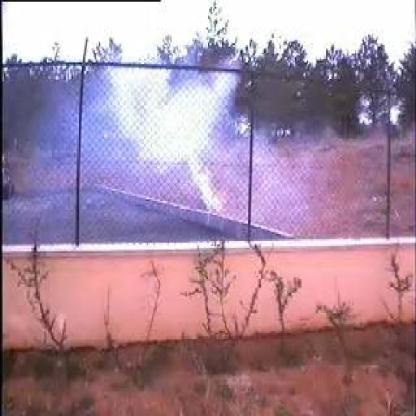-: (79, 69, 275, 240)
